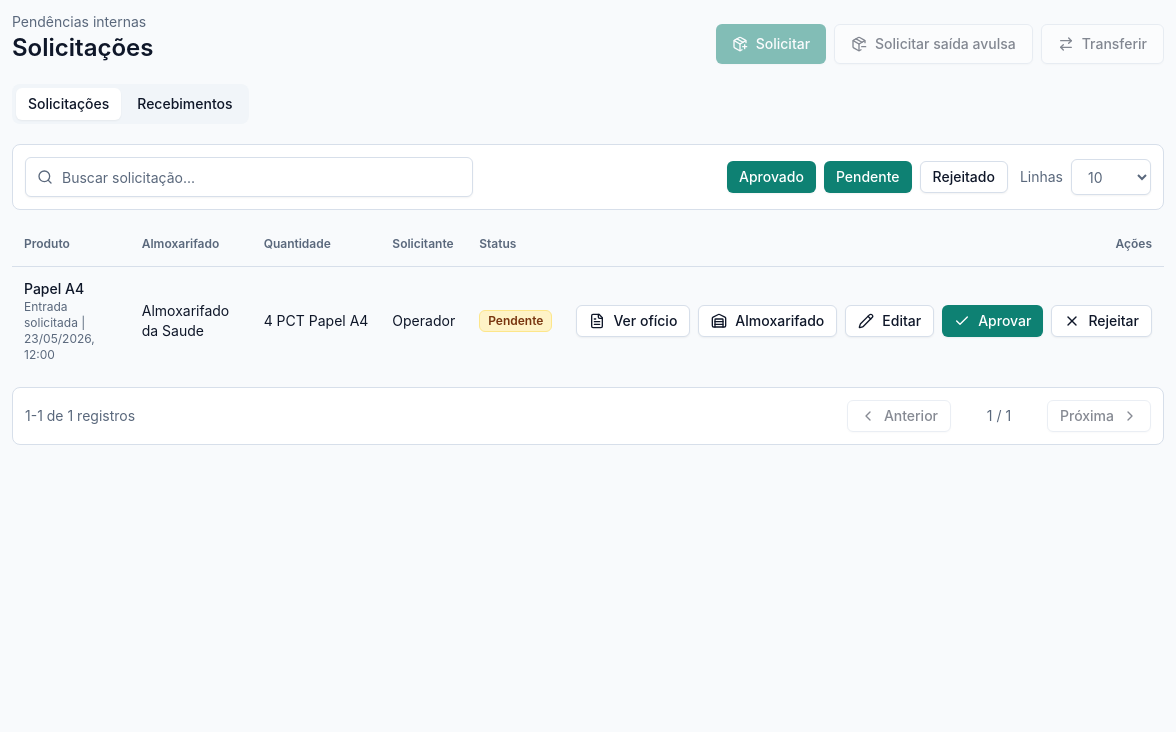
Test case: RequestsPage › hides rejected requests by default and shows them when filtered in
This screenshot has width=1176, height=732.
Expected: the text "Papel A4" is shown, x1=24 y1=280 x2=84 y2=296
Expected: the text "Caneta azul" is not shown
# Ligando "Rejeitado" a solicitação aparece.
Click the button "Rejeitado": (964, 177) x1=920 y1=161 x2=1008 y2=193
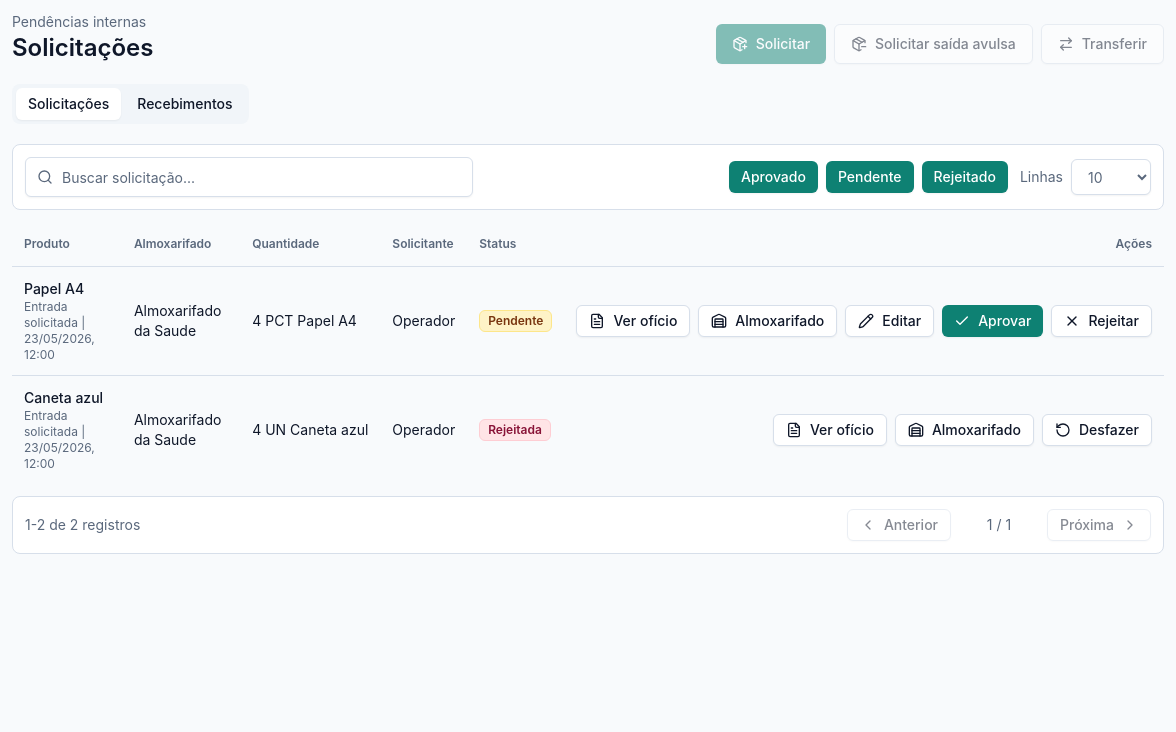
Expected: the text "Caneta azul" is shown, x1=24 y1=388 x2=110 y2=408
# Desligando "Pendente" a pendente some.
Click the button "Pendente": (870, 177) x1=826 y1=161 x2=914 y2=193
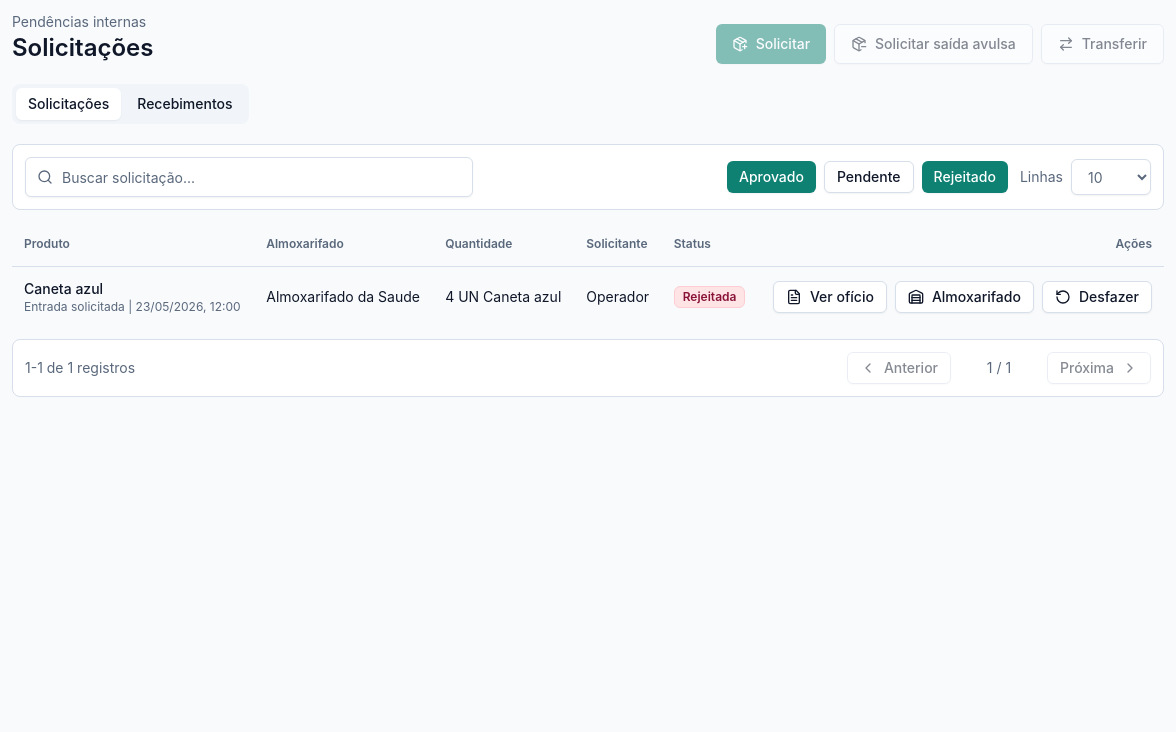
Expected: the text "Papel A4" is gone
